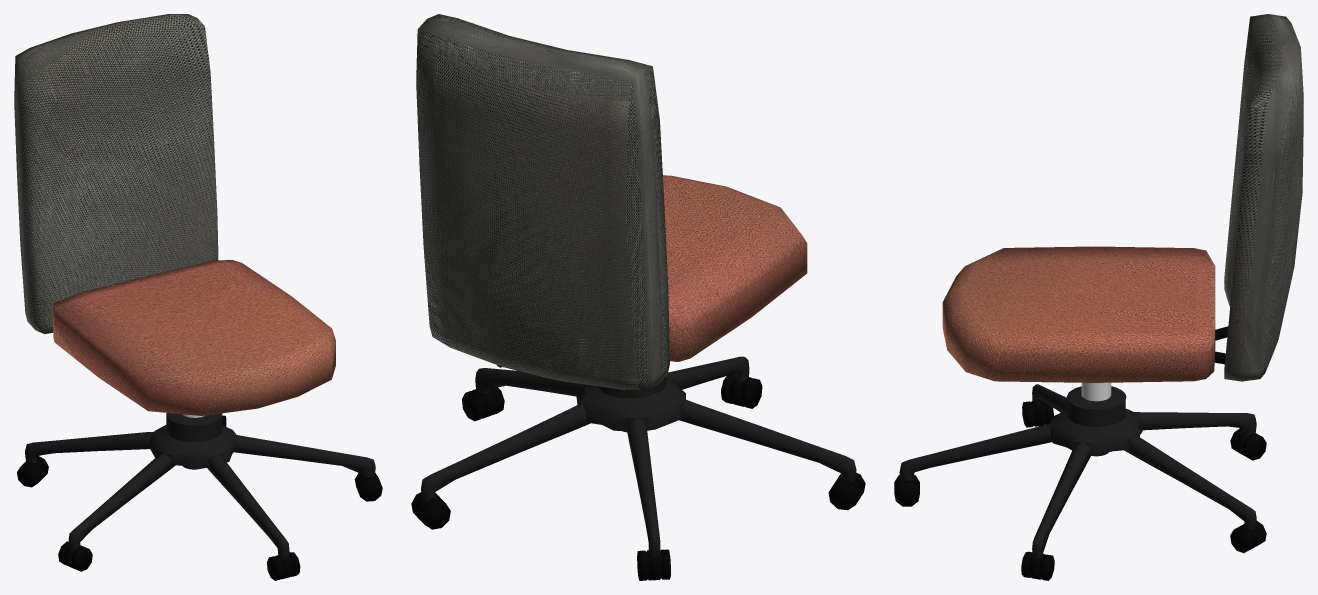
The model's file is Cadeira de laboratorio.fbx.
The picture shows the model from 3 angles, left to right: view 1: azimuth 30°, elevation 25°; view 2: azimuth 150°, elevation 25°; view 3: azimuth 270°, elevation 25°; orthographic projection. The views are drawn at different scales.
Parts seen in each view (by area): view 1: cadeira parte de baixo; view 2: cadeira parte de baixo; view 3: cadeira parte de baixo.
Part boxes in pixels (<box>): cadeira parte de baixo: <box>14,14,382,580</box>; cadeira parte de baixo: <box>411,14,865,580</box>; cadeira parte de baixo: <box>894,14,1303,580</box>.
Size of the model in its own units: 0.4923 by 0.6197 by 0.5141.
Materials: 12 (2 with a texture image).
